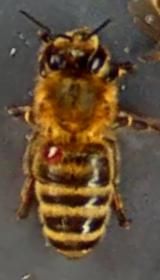varroa_mite: (34, 130, 82, 180)
